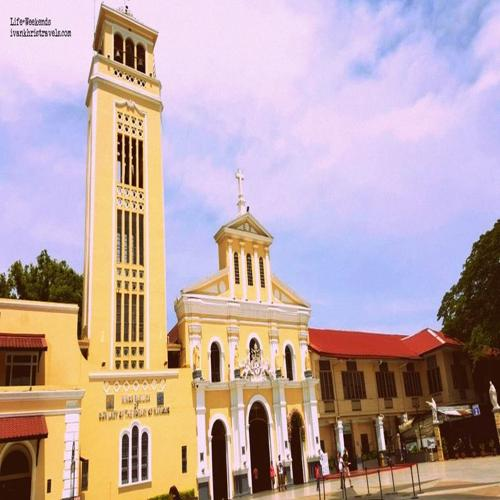Manaoag Church: (69, 5, 320, 492)
